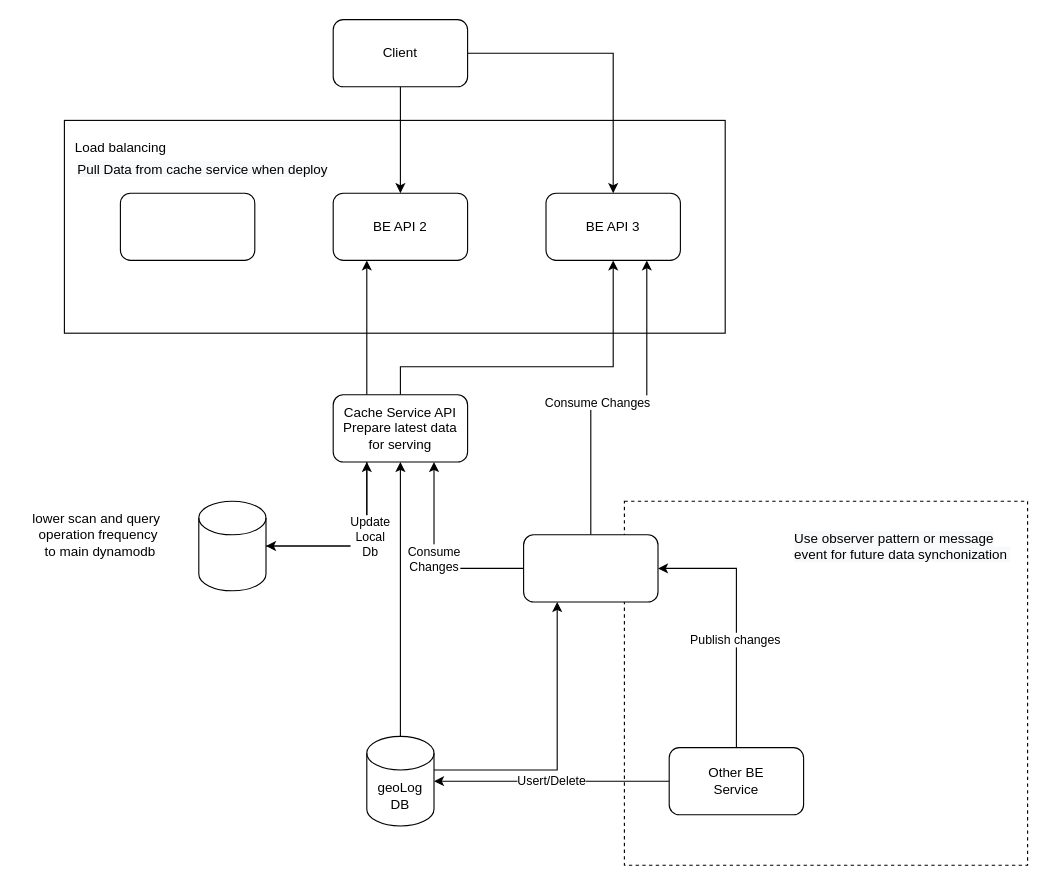
This 1047x885 diagram has some shape labels left out. The box of each missing label's shape, as (x1, y1, x2, y2) in pixels:
BE API 1: (119, 192, 255, 260)
MessageQueue: (522, 534, 658, 602)
Micro Service: (198, 500, 266, 591)
